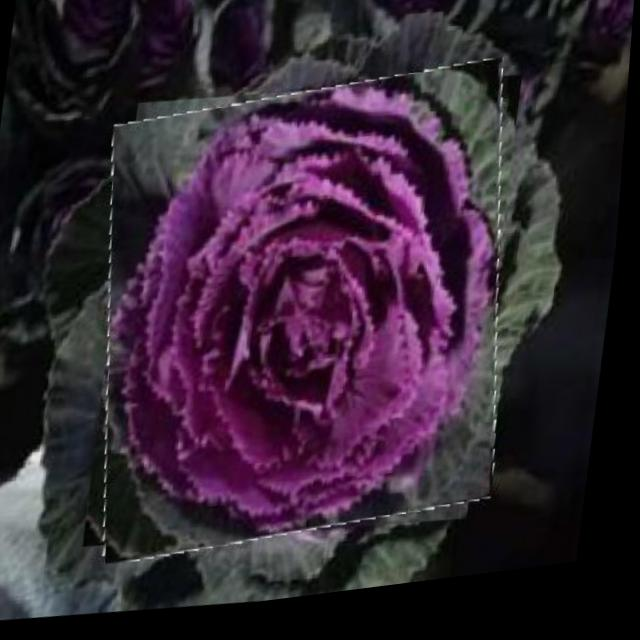Flower: (79, 58, 540, 583)
